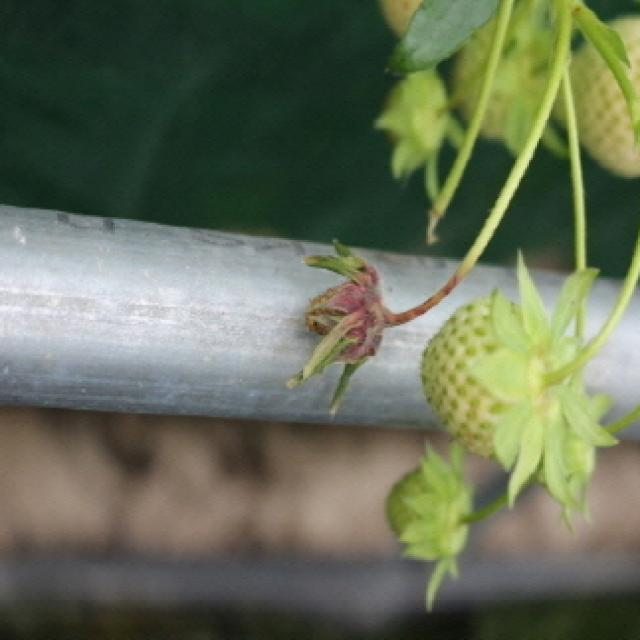Gray Mold: (284, 239, 442, 408)
